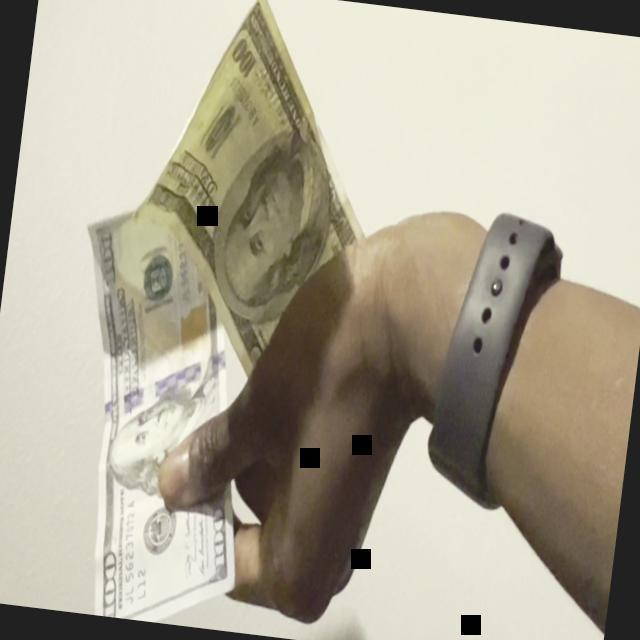hundred: (123, 0, 391, 382), (36, 200, 274, 630)
